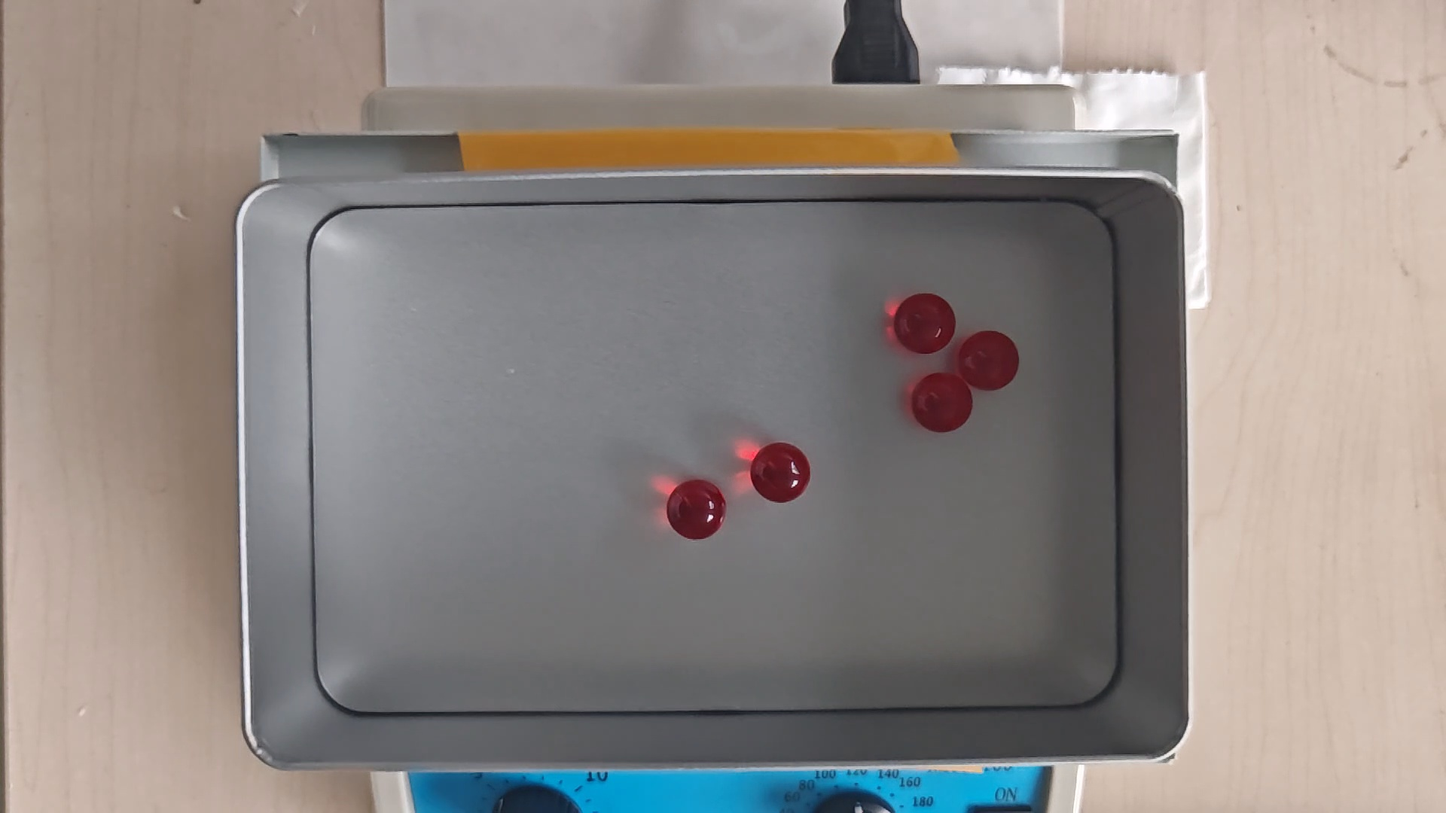ball: (750, 442, 811, 504), (894, 292, 955, 354), (667, 479, 726, 540), (960, 333, 1021, 391), (915, 372, 972, 434)
container: (305, 200, 1124, 714)
